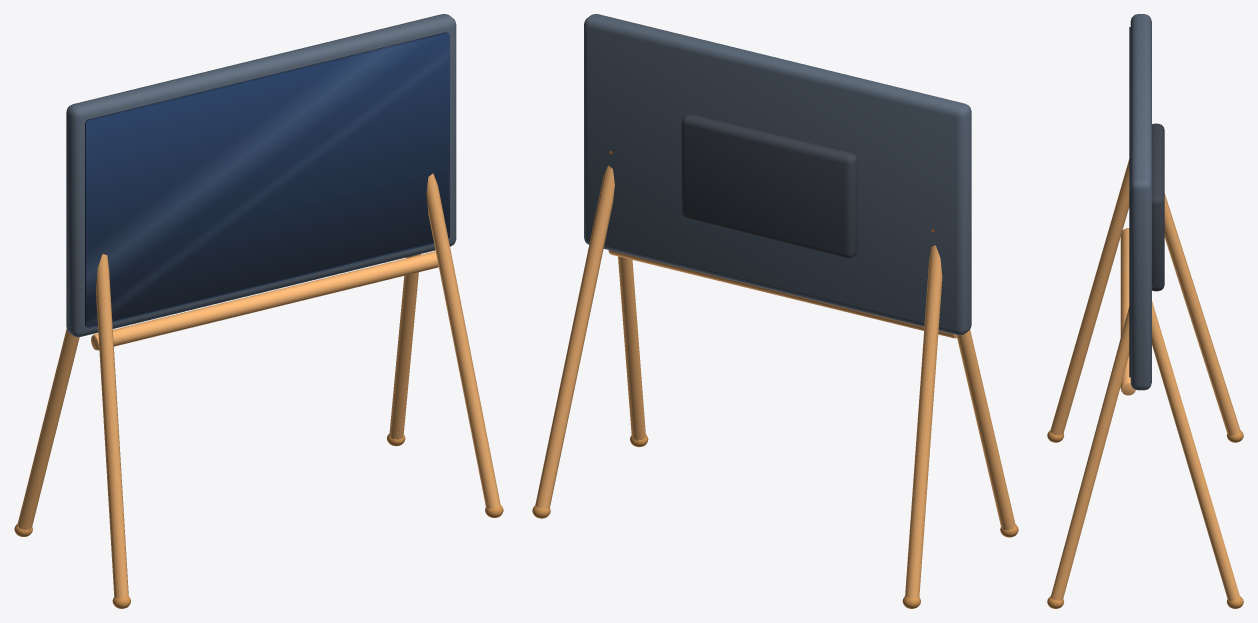
File: tv_cavalete.glb
The picture shows the model from 3 angles, left to right: view 1: azimuth 30°, elevation 25°; view 2: azimuth 150°, elevation 25°; view 3: azimuth 270°, elevation 25°; orthographic projection. The views are drawn at different scales.
Visible parts, largest first — view 1: tv_cavalete; view 2: tv_cavalete; view 3: tv_cavalete.
Boxes of the visible parts, <box> form: tv_cavalete: <box>14,14,503,608</box>; tv_cavalete: <box>532,14,1018,608</box>; tv_cavalete: <box>1047,14,1243,608</box>.
Size of the model in its own units: 0.96 by 1.1 by 0.46.
2 materials, 2 textured.
